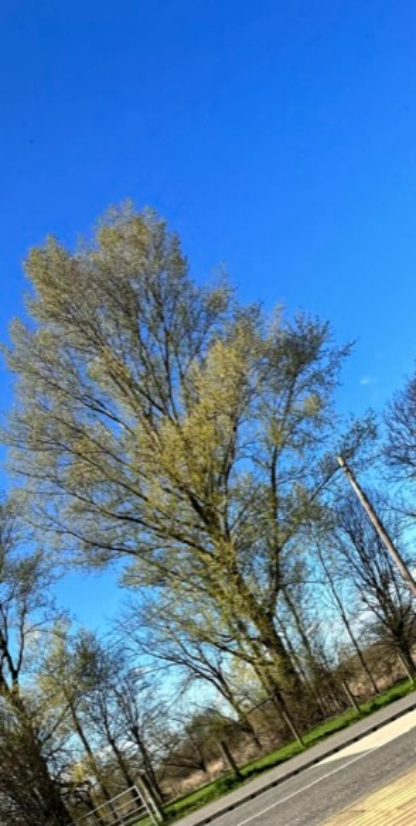tree: (3, 222, 359, 746)
